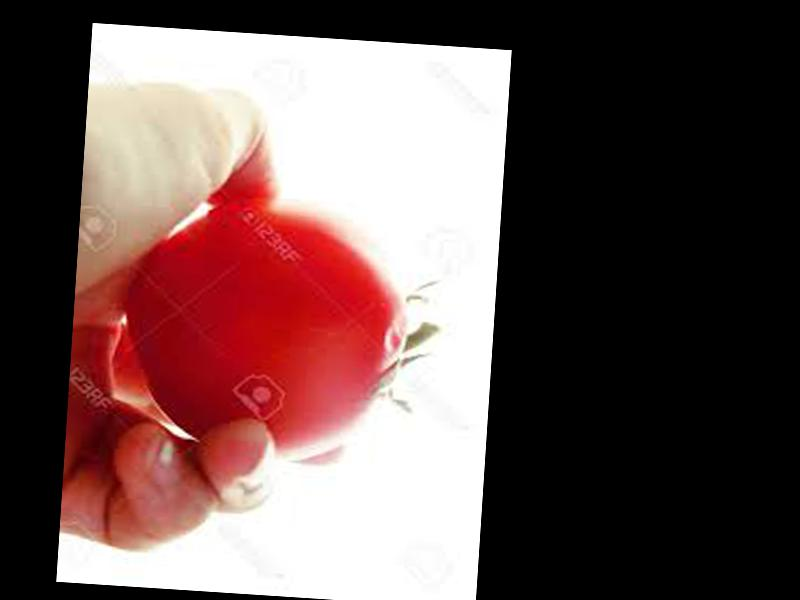Tomato: (121, 193, 418, 469)
